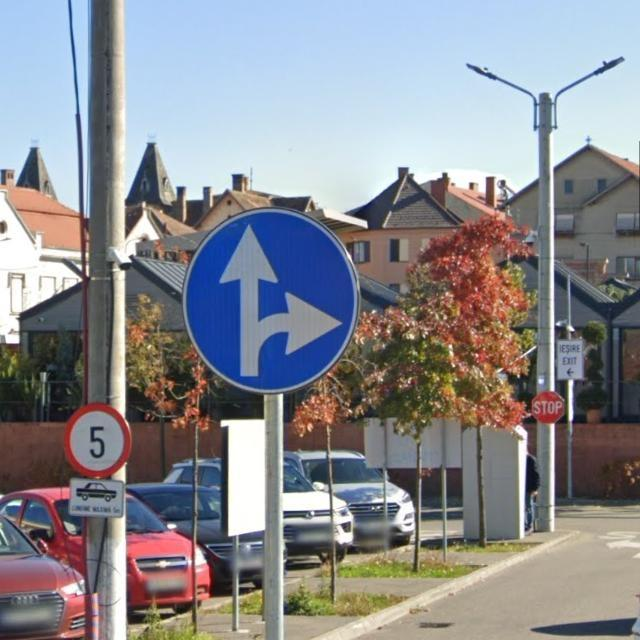prio_stop: (530, 387, 567, 424)
